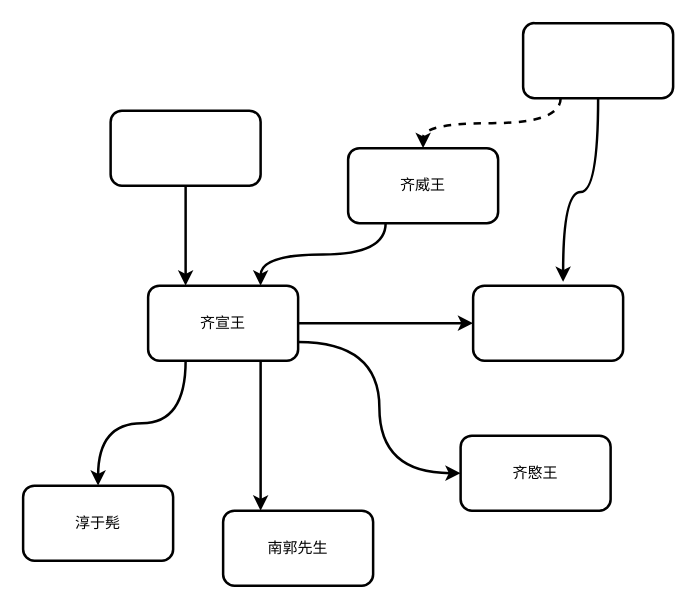
Some shapes in this 695 by 608 pixel diagram are drawn without their labels. The centre of each missing label's shape, as x and y in pixels:
"孟子" belongs at point (185, 147).
"稷下学宫" belongs at point (547, 322).
"齐桓公" belongs at point (597, 60).
